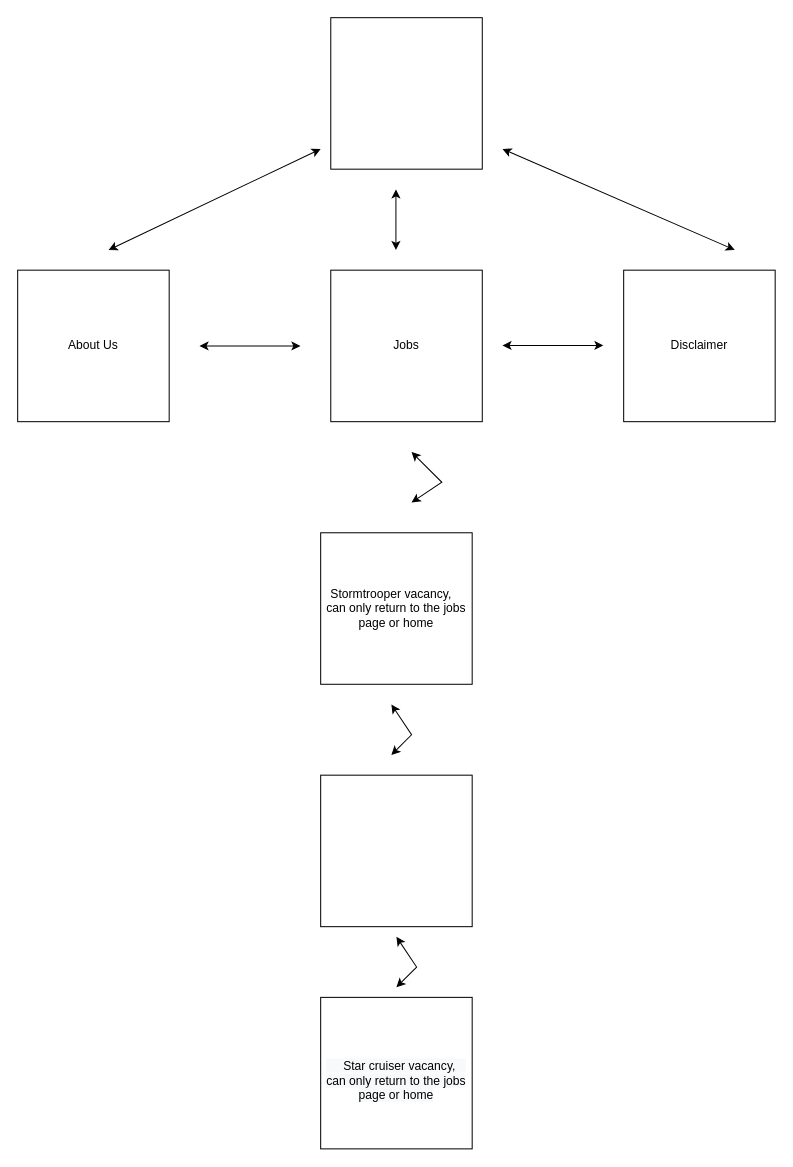
The diagram is 793 pixels wide and 1167 high, and some of its shapes have lost their labels. The shapes that lost their labels are listed below. From the top down, each one's centre as x and y in pixels, then its label:
At point (406, 93): "Home page".
At point (396, 850): "Engineer vacancy, can only return to the jobs page or home".
